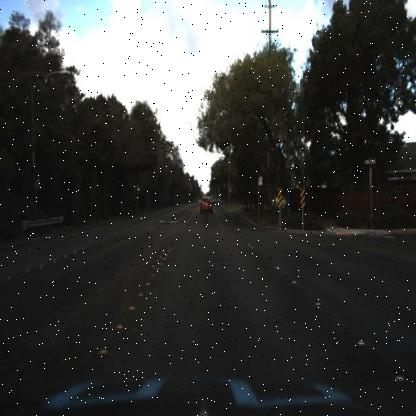car: (198, 191, 216, 220)
